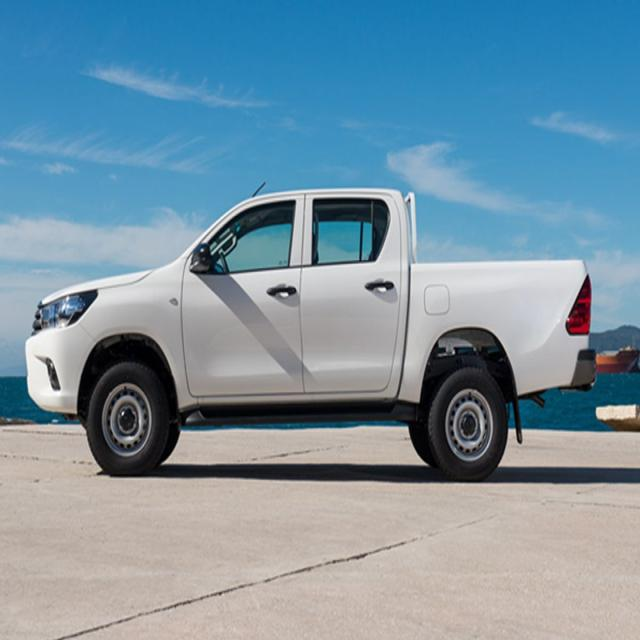light_vehicle: (18, 172, 596, 477)
